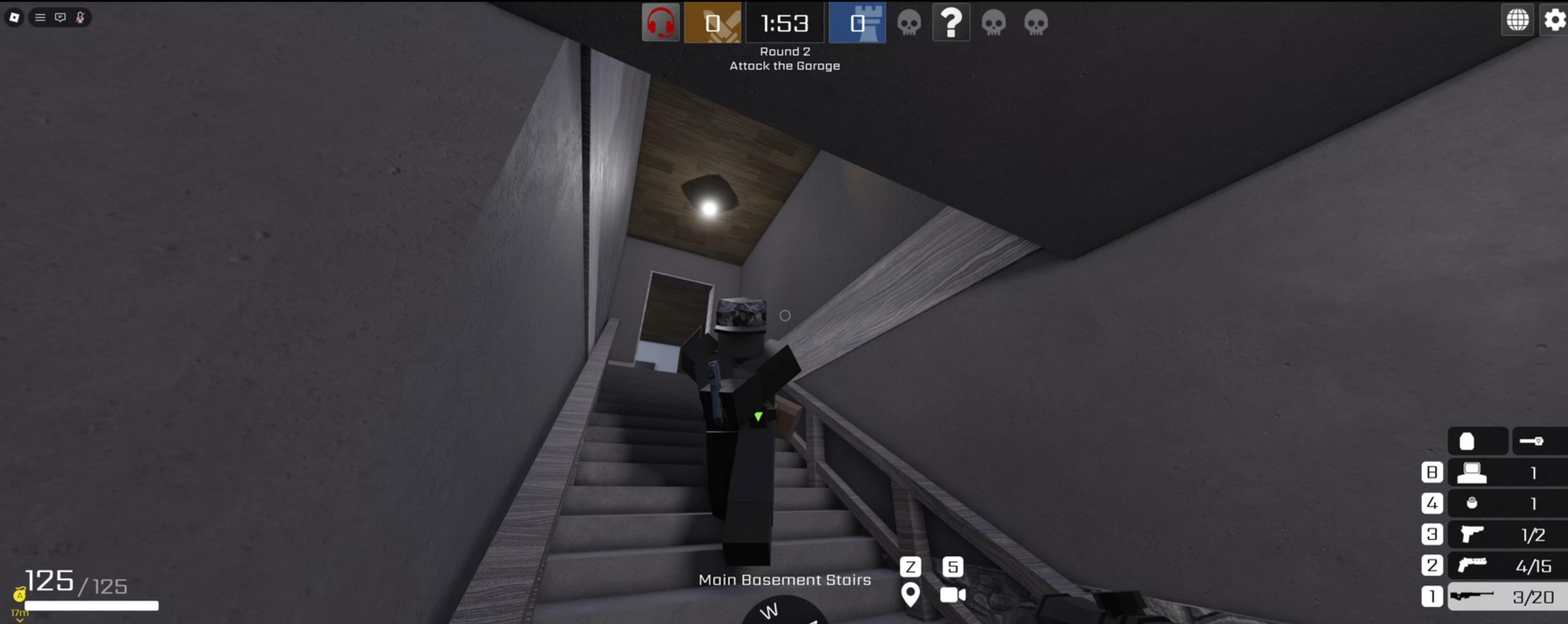enemy: (674, 297, 811, 569)
